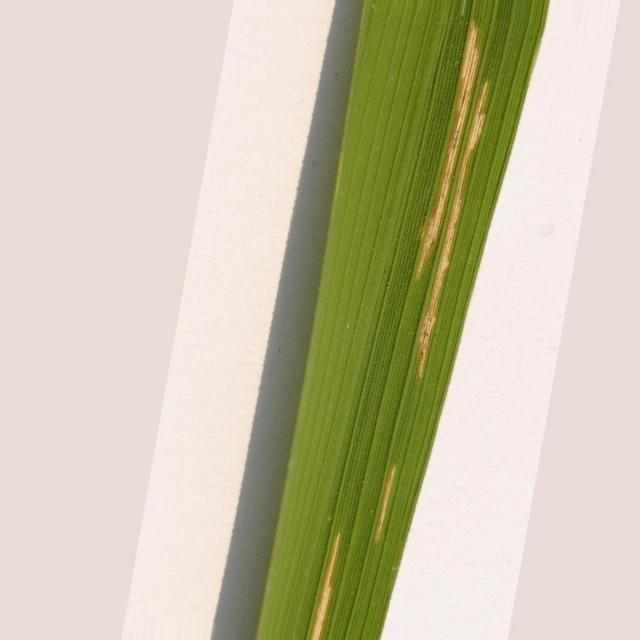Bacterial_Leaf_Blight: (418, 81, 489, 378), (415, 22, 481, 280), (310, 532, 341, 640), (374, 464, 398, 542)
